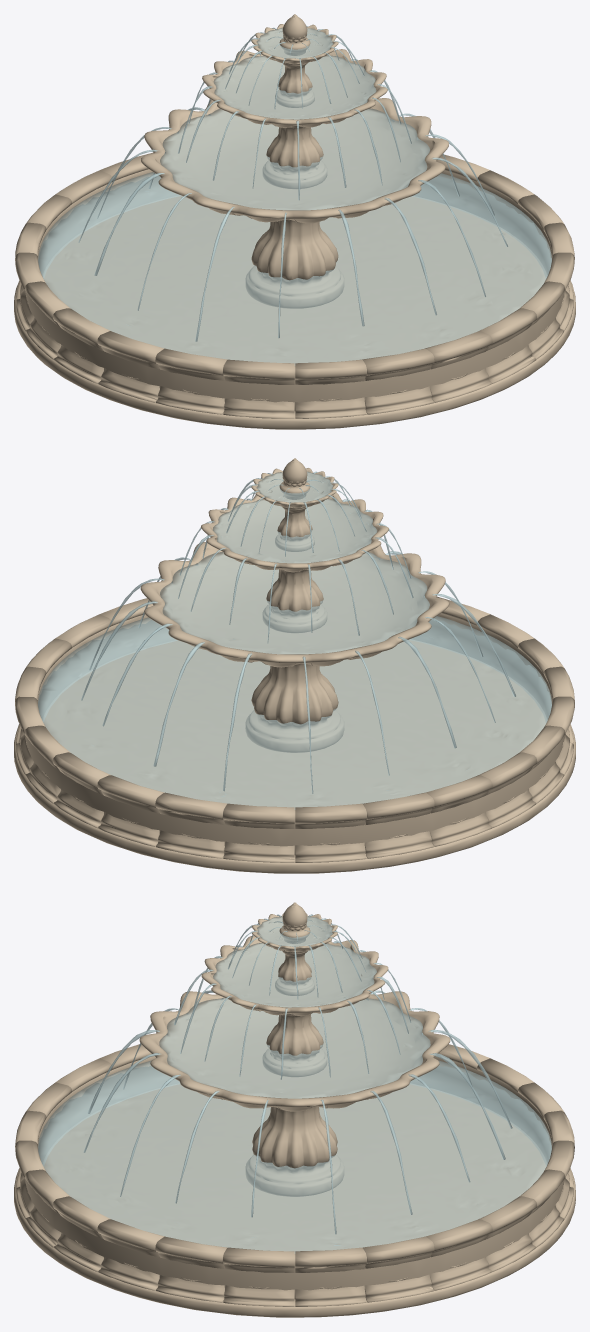
Rendered from fountain.glb.
3 renders of one model, top to bottom at view 1: azimuth 30°, elevation 25°; view 2: azimuth 150°, elevation 25°; view 3: azimuth 270°, elevation 25°, orthographic.
Parts seen in each view (by area): view 1: Fountain_Stone, Fountain_Water; view 2: Fountain_Stone, Fountain_Water; view 3: Fountain_Stone, Fountain_Water.
Part boxes in pixels (x1=…): Fountain_Stone: x1=14, y1=14, x2=575, y2=429; Fountain_Water: x1=38, y1=25, x2=551, y2=365; Fountain_Stone: x1=14, y1=458, x2=575, y2=873; Fountain_Water: x1=38, y1=470, x2=551, y2=809; Fountain_Stone: x1=14, y1=902, x2=575, y2=1317; Fountain_Water: x1=38, y1=914, x2=551, y2=1253.
Size of the model in its own units: 6 by 3.5 by 6.
